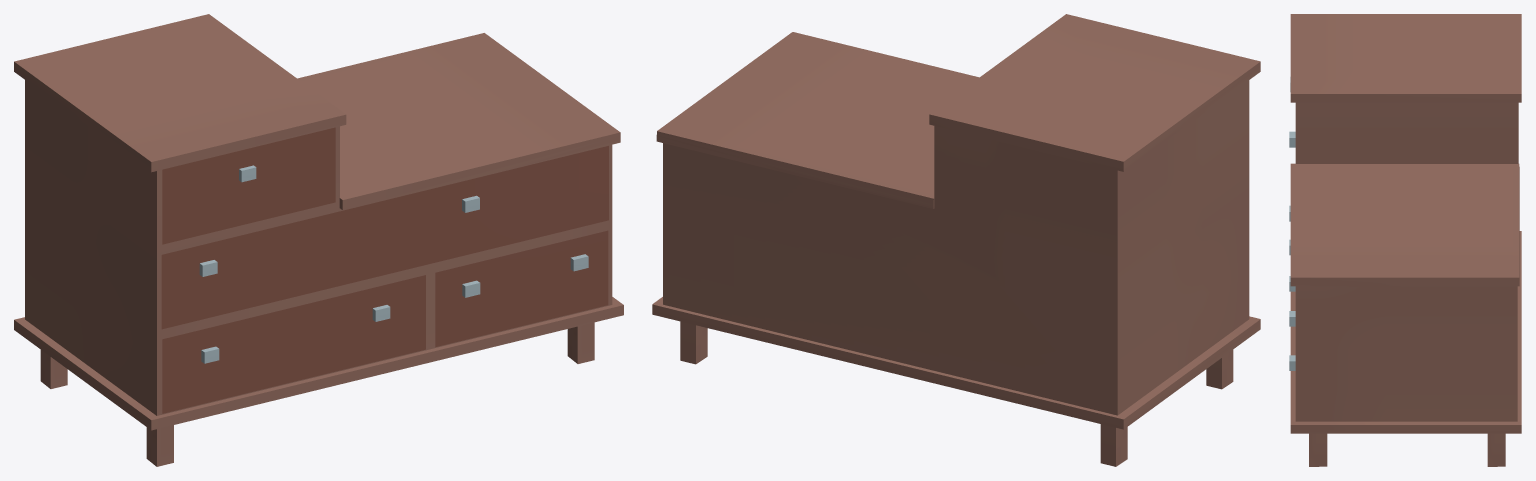
File: shelf_038.glb
3 renders of one model, left to right at view 1: azimuth 30°, elevation 25°; view 2: azimuth 150°, elevation 25°; view 3: azimuth 270°, elevation 25°, orthographic. The views are drawn at different scales.
Visible parts, largest first — view 1: shelf_038; view 2: shelf_038; view 3: shelf_038.
Boxes of the visible parts, x1=… form: shelf_038: x1=14, y1=14, x2=623, y2=466; shelf_038: x1=652, y1=14, x2=1260, y2=466; shelf_038: x1=1289, y1=14, x2=1521, y2=466.
Size of the model in its own units: 1.04 by 0.6647 by 0.525.
1 material, 1 textured.
